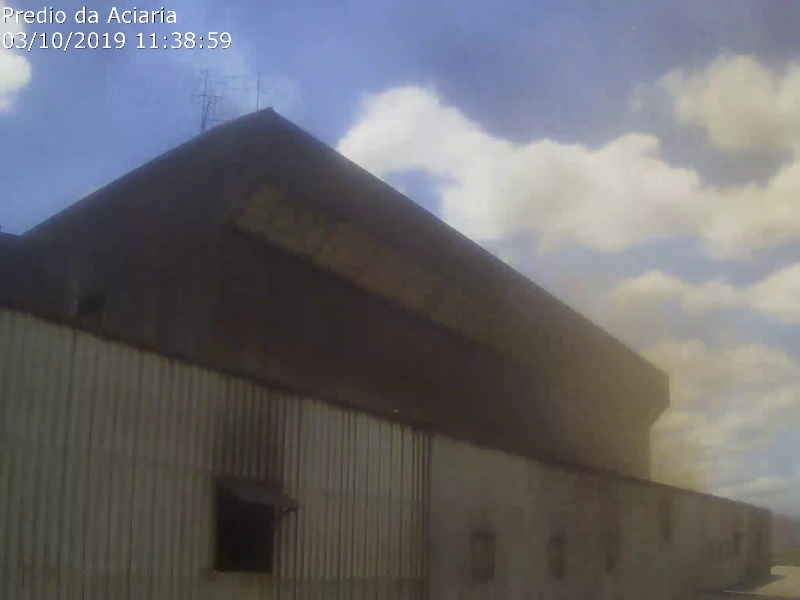bom: (2, 1, 350, 261), (329, 22, 494, 276)
ruim: (532, 234, 733, 488)
